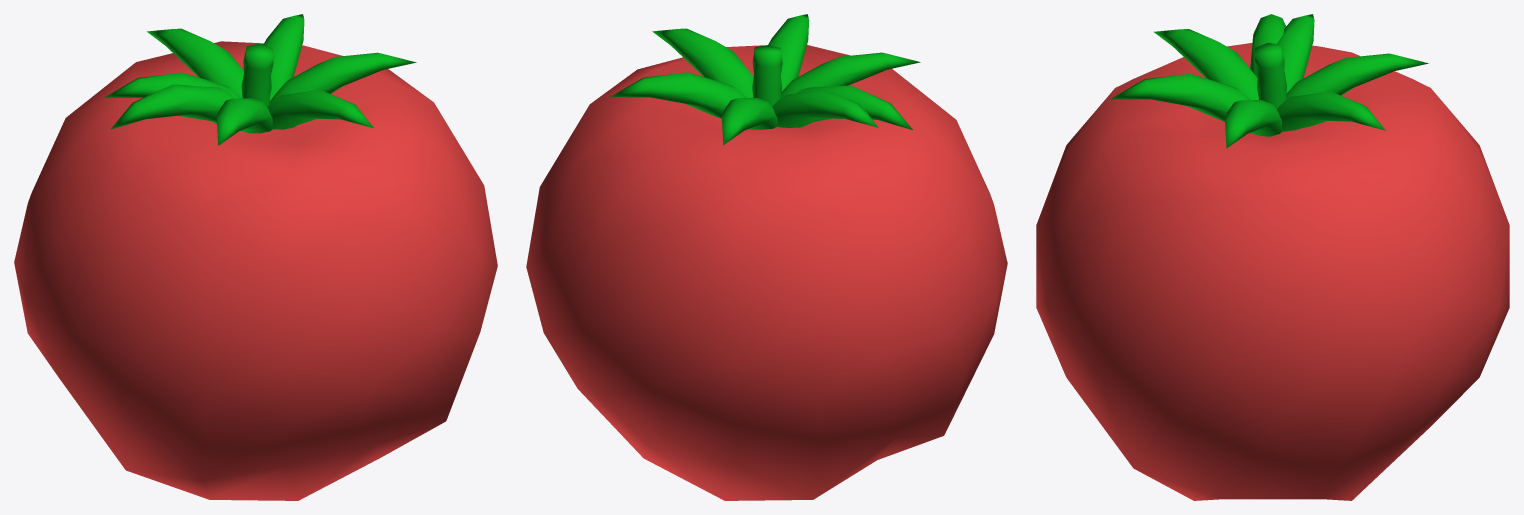
Rendered from 16438bbf-4590-4a5b-ba37-409997554ed3.glb.
3 views of the same model, side by side, from view 1: azimuth 30°, elevation 25°; view 2: azimuth 150°, elevation 25°; view 3: azimuth 270°, elevation 25° (orthographic). The views are drawn at different scales.
Visible parts, largest first — view 1: Tomato.1; view 2: Tomato.1; view 3: Tomato.1.
Boxes of the visible parts, x1,y1,x2,y2 form: Tomato.1: (14,14,497,500); Tomato.1: (526,14,1007,500); Tomato.1: (1036,14,1509,500).
Bounding box in the file's own units: 226 × 220 × 219.
